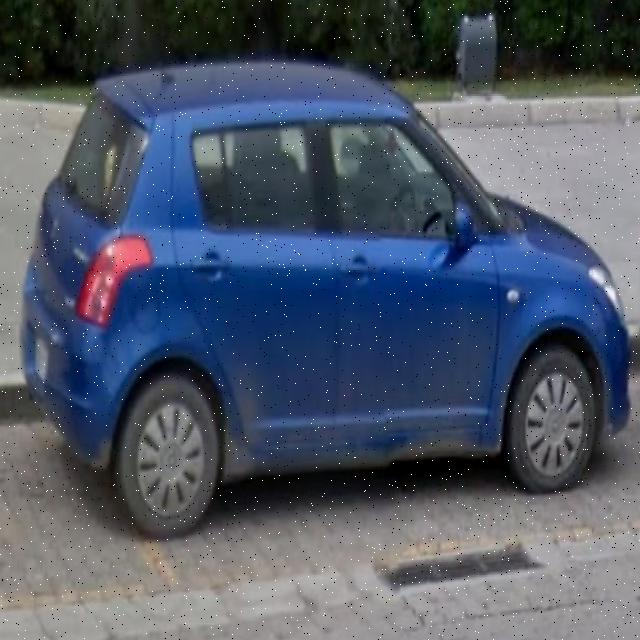car: (20, 61, 621, 529)
